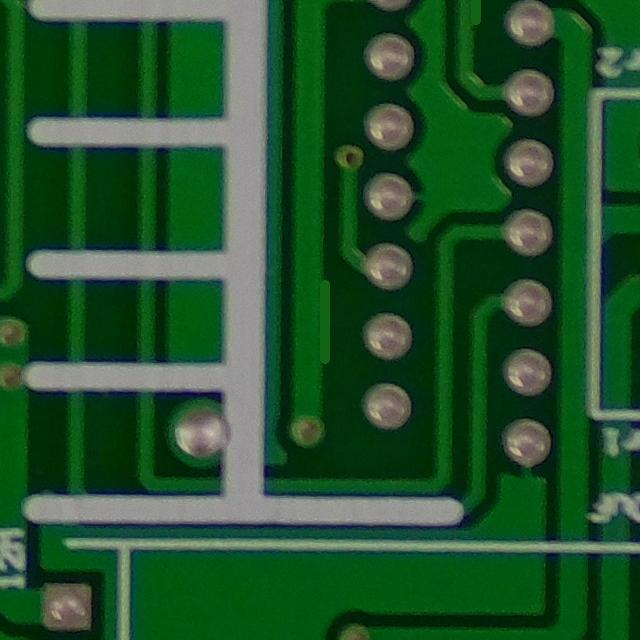spur: (296, 260, 344, 381)
